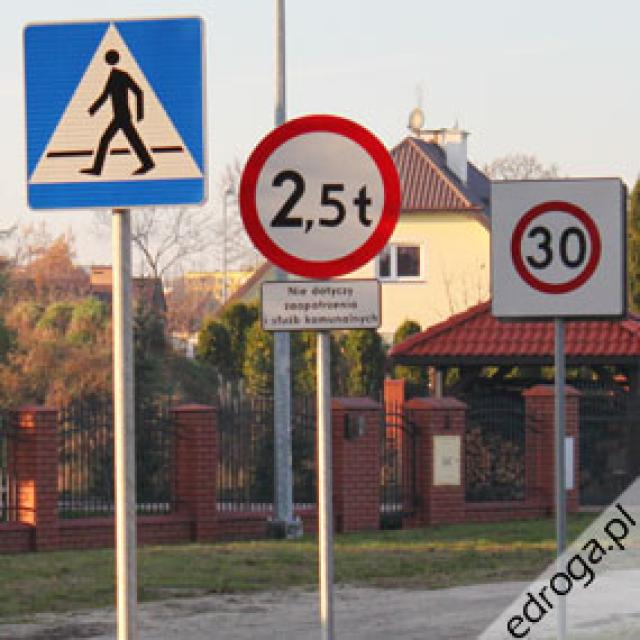Speed Limit -30-: (526, 225, 587, 270)
